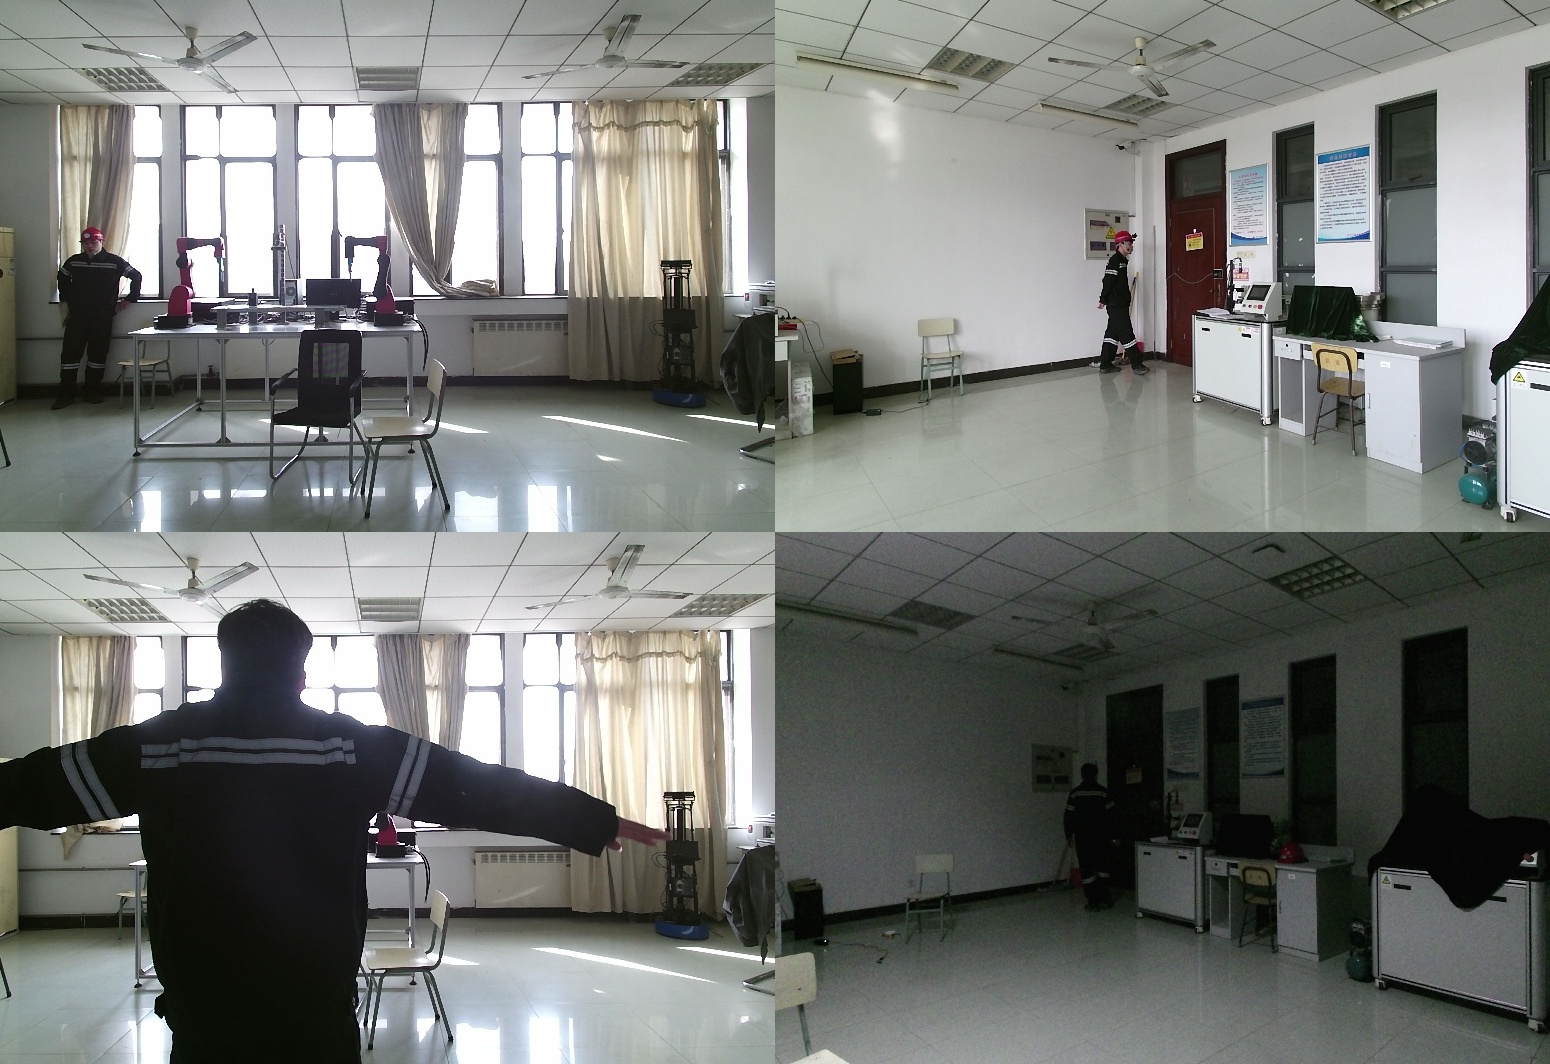person: (1, 601, 672, 1064), (53, 226, 142, 404), (1062, 765, 1121, 919), (1095, 232, 1148, 375)
